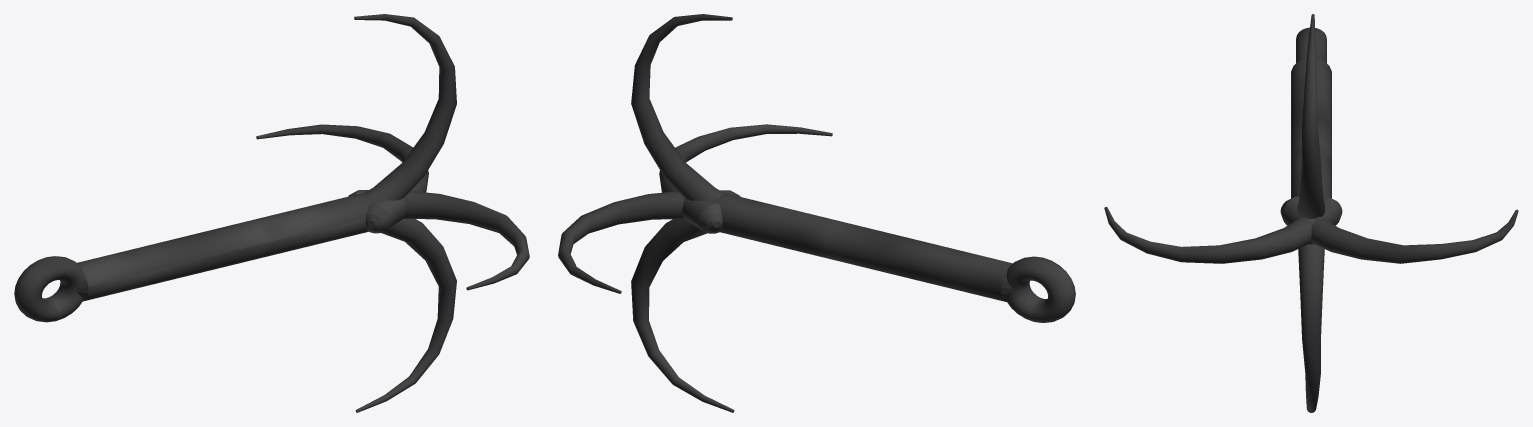
File: grappling_hook_model.fbx
3 renders of one model, left to right at view 1: azimuth 30°, elevation 25°; view 2: azimuth 150°, elevation 25°; view 3: azimuth 270°, elevation 25°, orthographic. The views are drawn at different scales.
Parts seen in each view (by area): view 1: Cylinder001, Cone005, Cone007, Cone006, Torus001, Cone008; view 2: Cylinder001, Cone005, Cone007, Cone008, Torus001, Cone006; view 3: Cone006, Cone008, Cylinder001, Cone007, Cone005, Torus001.
Part boxes in pixels (x1,y1,x2,y2): Cylinder001: (77, 192, 379, 301); Cone005: (354, 14, 456, 200); Cone007: (355, 218, 456, 412); Cone006: (348, 190, 529, 290); Torus001: (14, 256, 83, 322); Cone008: (256, 124, 428, 233); Cylinder001: (709, 193, 1012, 301); Cone005: (631, 14, 732, 200); Cone007: (631, 219, 734, 412); Cone008: (558, 190, 740, 293); Torus001: (1006, 256, 1075, 322); Cone006: (659, 124, 832, 233); Cone006: (1104, 196, 1342, 263); Cone008: (1280, 196, 1518, 263); Cylinder001: (1291, 58, 1331, 198); Cone007: (1298, 244, 1324, 412); Cone005: (1297, 14, 1325, 218); Torus001: (1296, 27, 1326, 62).
Size of the model in its own units: 12.82 by 10.81 by 10.53.
Materials: 2 (2 with a texture image).
